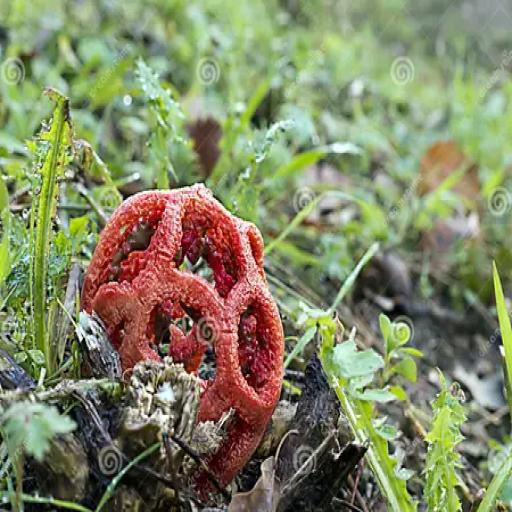Red Cage Fungus: (40, 145, 370, 490)
